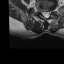CCS_normal: (45, 9, 47, 20)
LFS_severe_stenosis: (50, 6, 53, 14)
LLS_normal: (47, 8, 50, 18)
RFS_stenosis: (39, 8, 42, 15)
RLS_normal: (42, 9, 45, 18)
